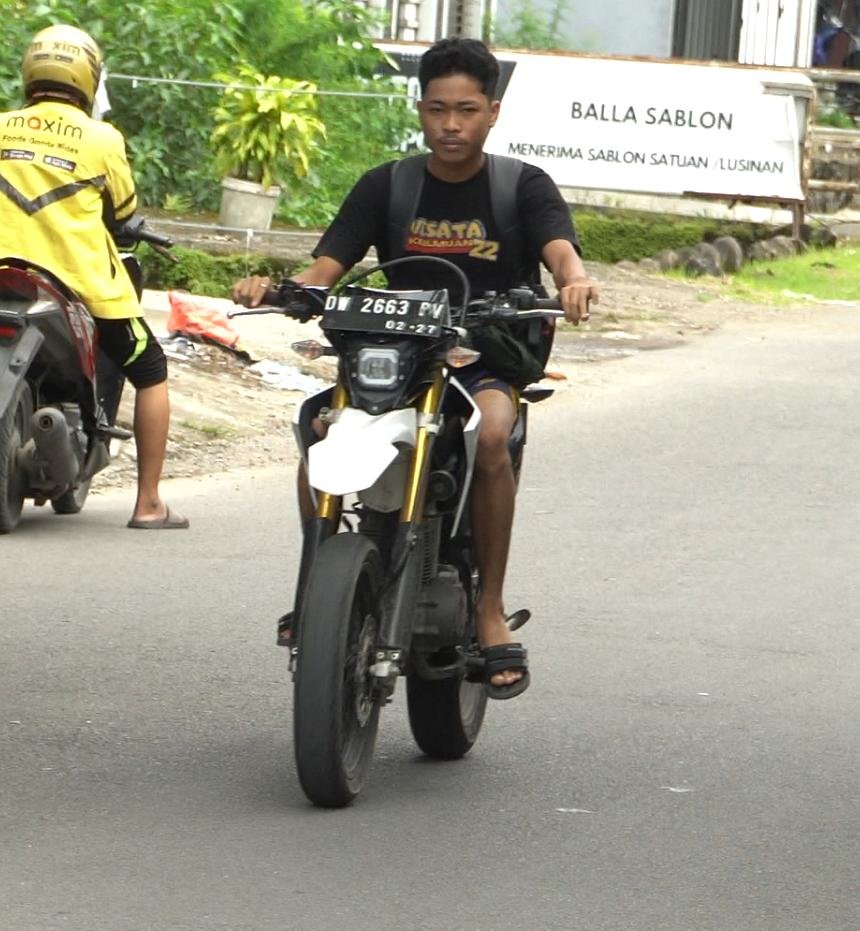number-plate: (321, 284, 448, 342)
